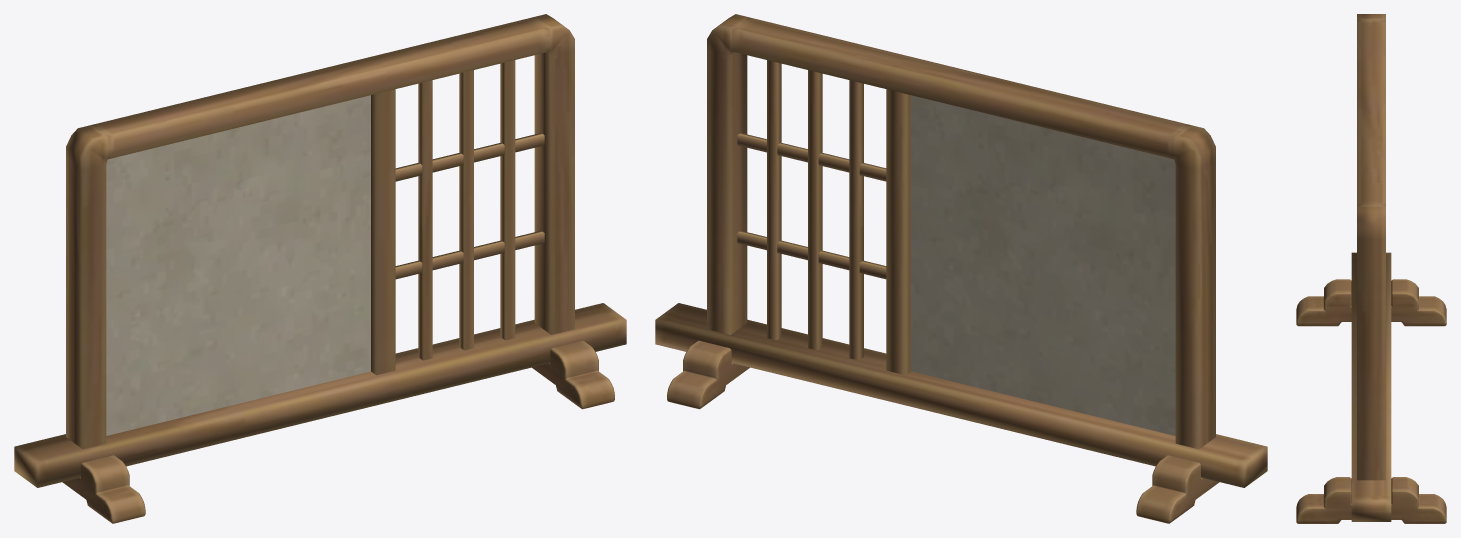
The picture shows the model from 3 angles, left to right: view 1: azimuth 30°, elevation 25°; view 2: azimuth 150°, elevation 25°; view 3: azimuth 270°, elevation 25°; orthographic projection. The views are drawn at different scales.
Bounding box in the file's own units: 9.58 × 5.51 × 2.45.
Materials: 2 (2 with a texture image).
